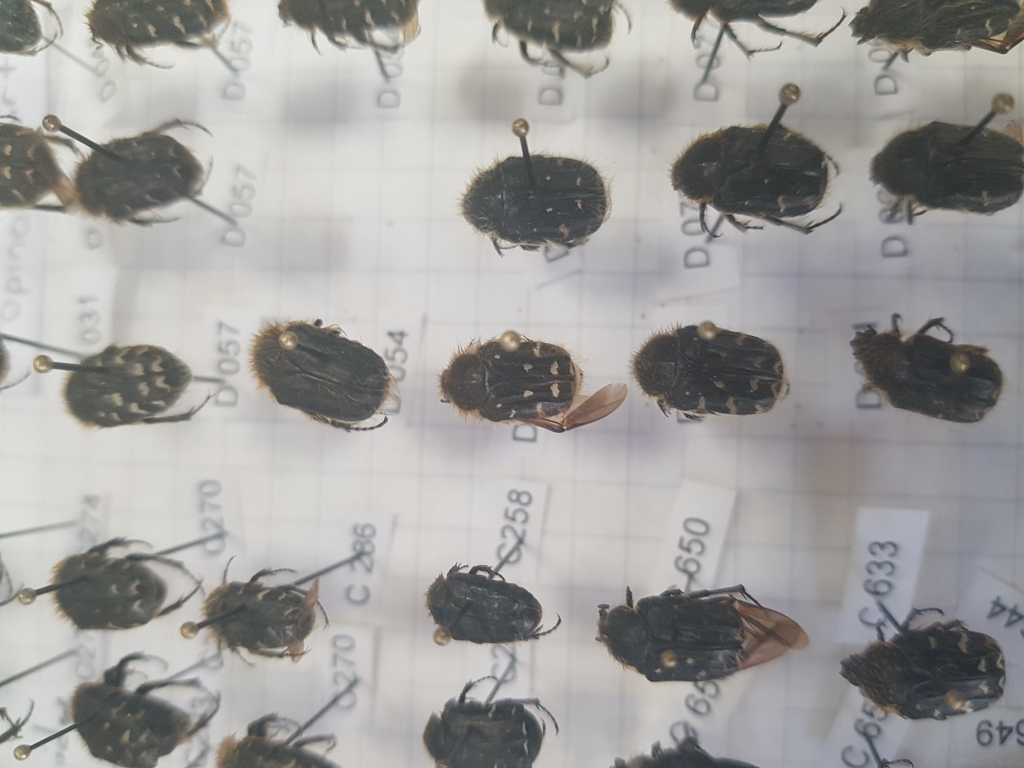Tropinota_hirta: (435, 321, 625, 431), (627, 312, 798, 425), (458, 146, 615, 257)
